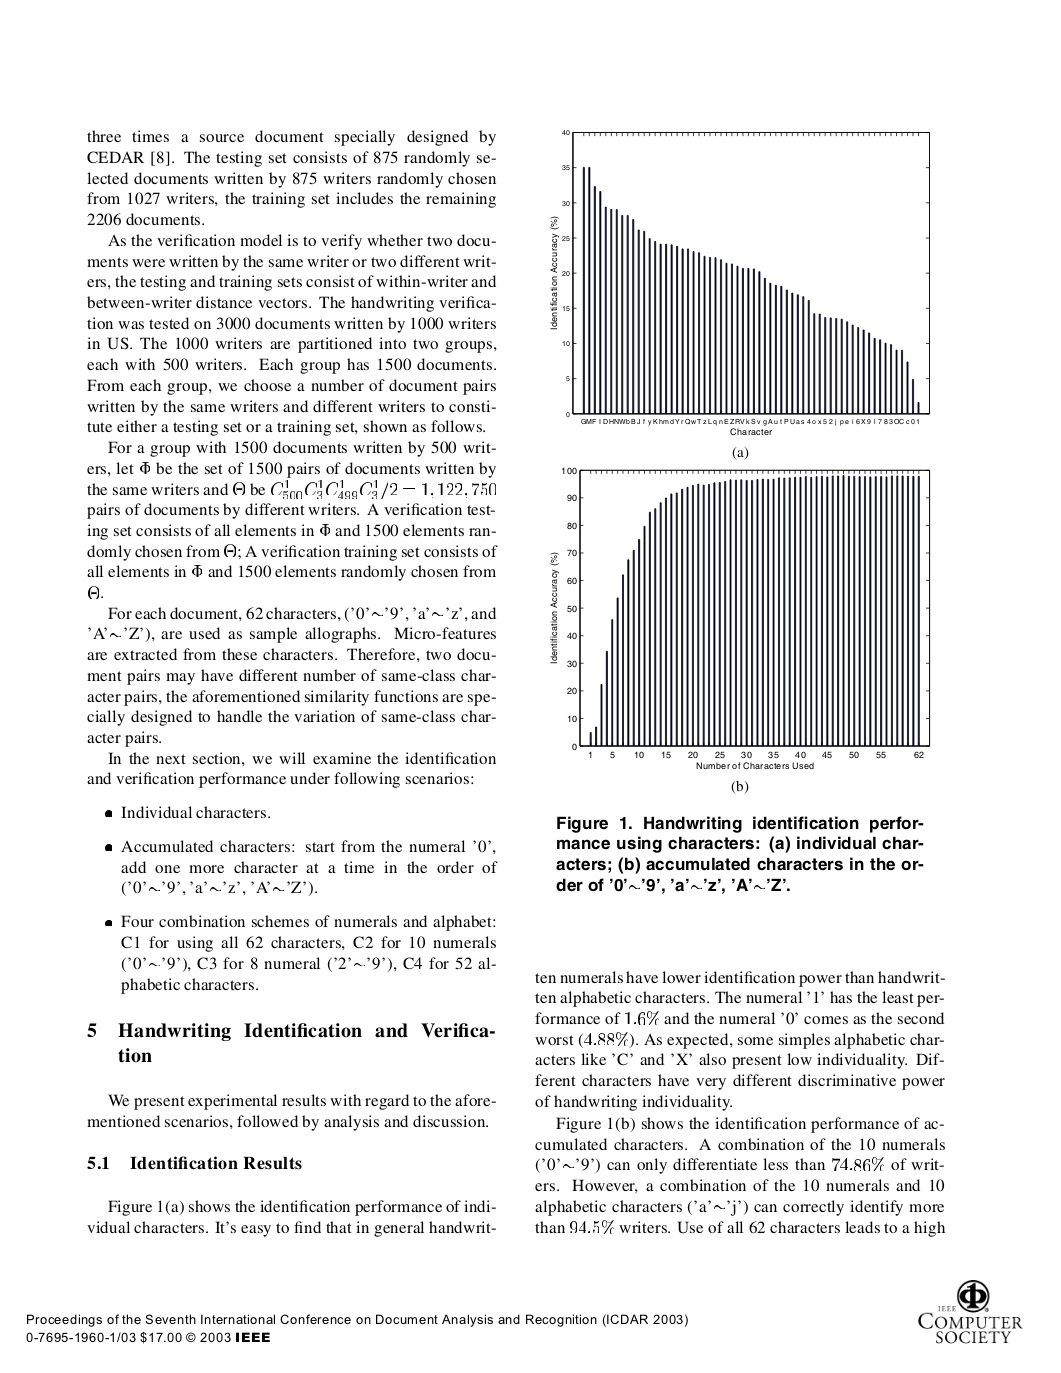figure: (549, 455, 929, 780), (549, 130, 929, 435), (918, 1281, 1022, 1343)
